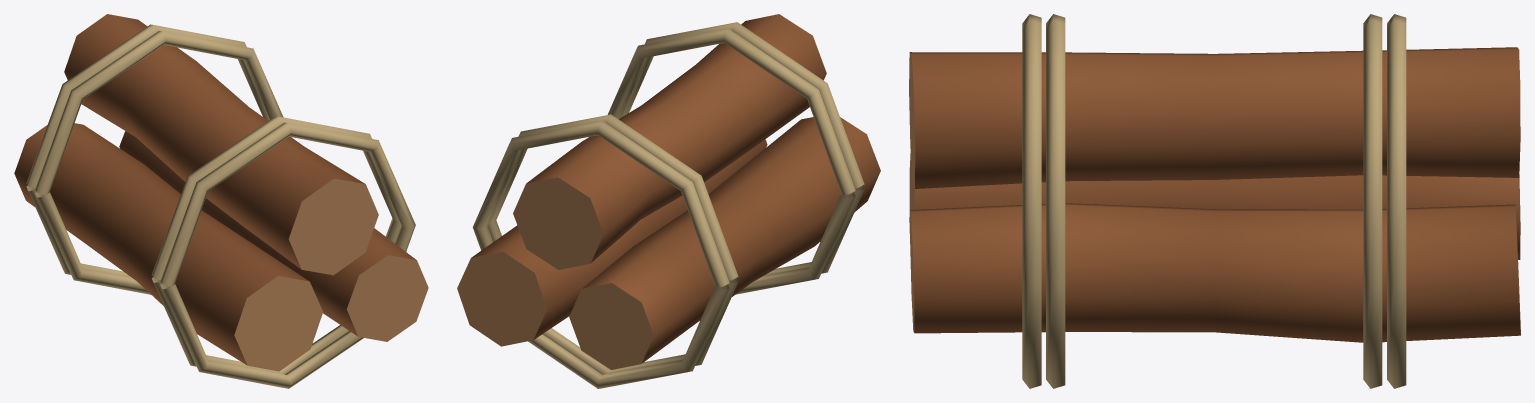
The model's file is wood.glb.
The picture shows the model from 3 angles, left to right: view 1: azimuth 30°, elevation 25°; view 2: azimuth 150°, elevation 25°; view 3: azimuth 270°, elevation 25°; orthographic projection. The views are drawn at different scales.
Parts seen in each view (by area): view 1: wood; view 2: wood; view 3: wood.
Part boxes in pixels (x1=…): wood: x1=14, y1=14, x2=428, y2=388; wood: x1=457, y1=14, x2=880, y2=388; wood: x1=909, y1=14, x2=1520, y2=388.
Bounding box in the file's own units: 0.4206 × 0.4214 × 0.6462.
